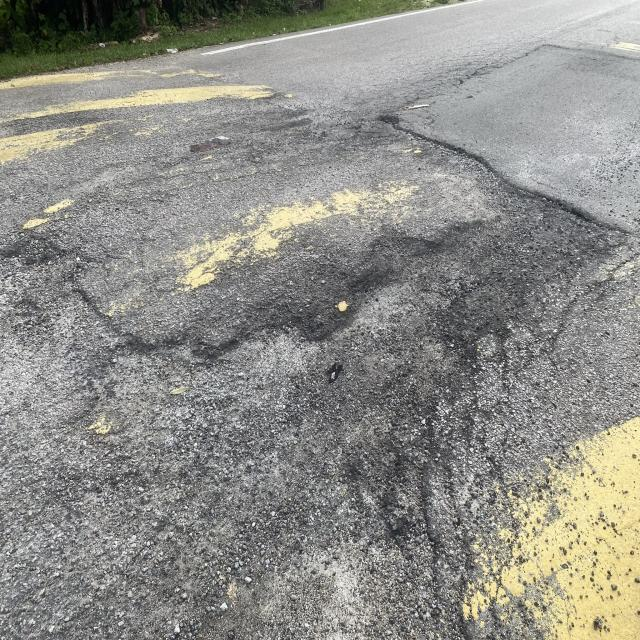pothole: (370, 92, 614, 245), (211, 217, 405, 407)
